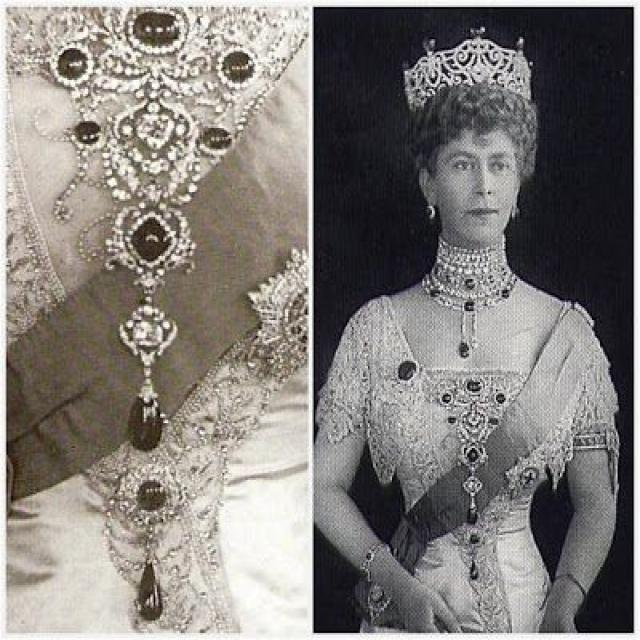Earring: (418, 192, 439, 229), (508, 200, 526, 229)
